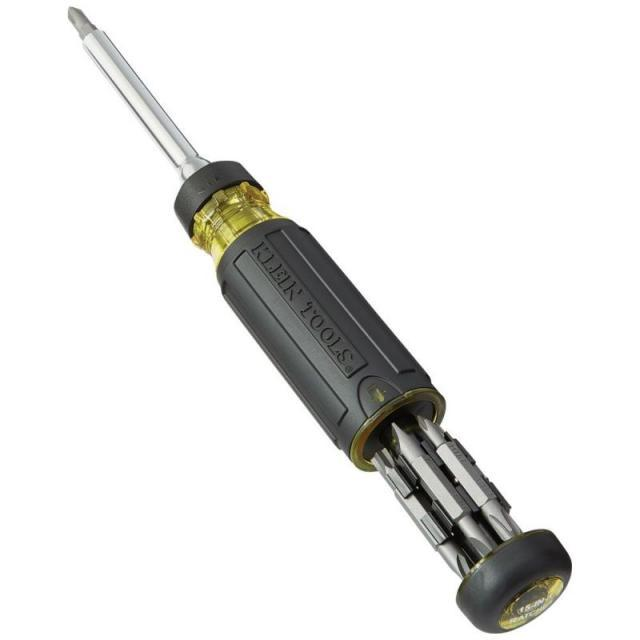screwdriver: (58, 2, 578, 638)
